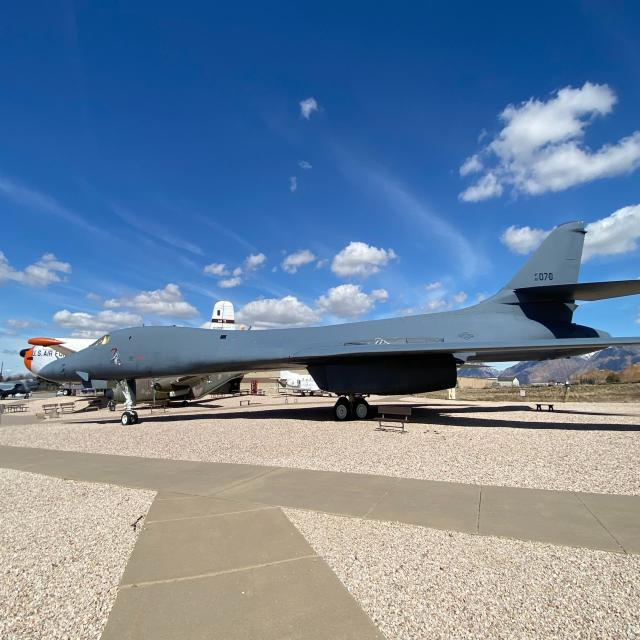B1: (15, 203, 640, 439)
